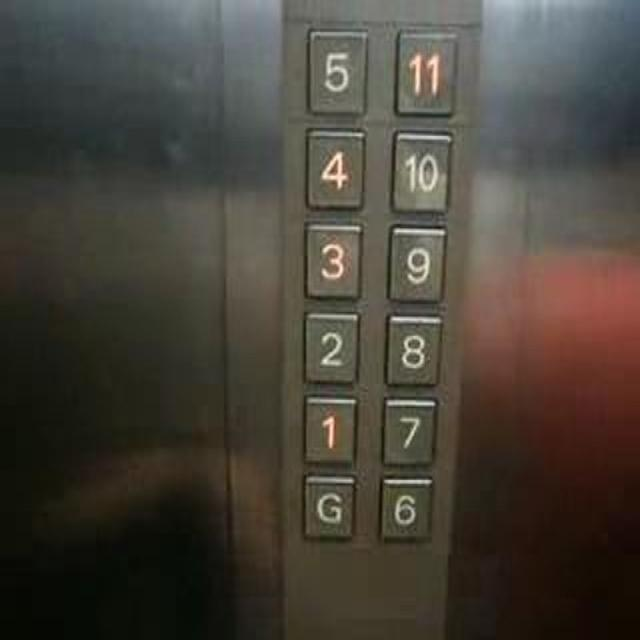1: (299, 394, 358, 469)
10: (392, 128, 451, 217)
11: (392, 27, 458, 120)
2: (299, 308, 361, 385)
3: (302, 219, 363, 304)
4: (304, 127, 366, 212)
5: (306, 27, 368, 117)
6: (377, 473, 433, 544)
7: (382, 395, 438, 469)
8: (381, 311, 440, 388)
9: (387, 227, 445, 305)
G: (298, 469, 358, 542)
